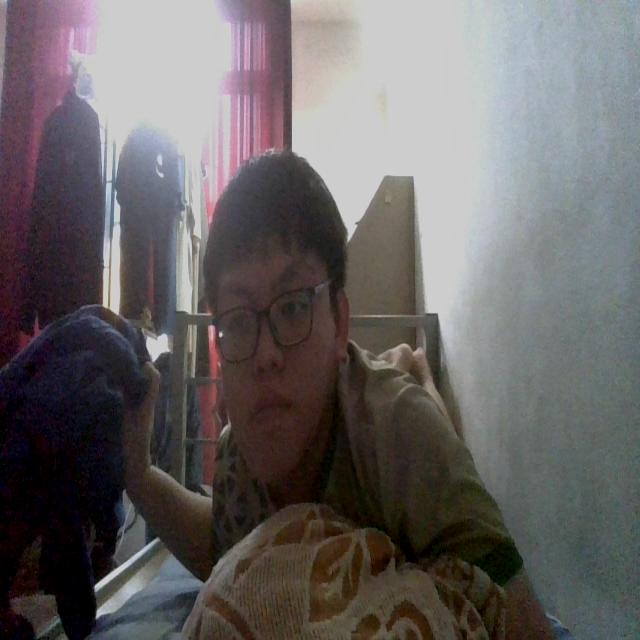person_without_labcoat: (0, 150, 550, 637)
